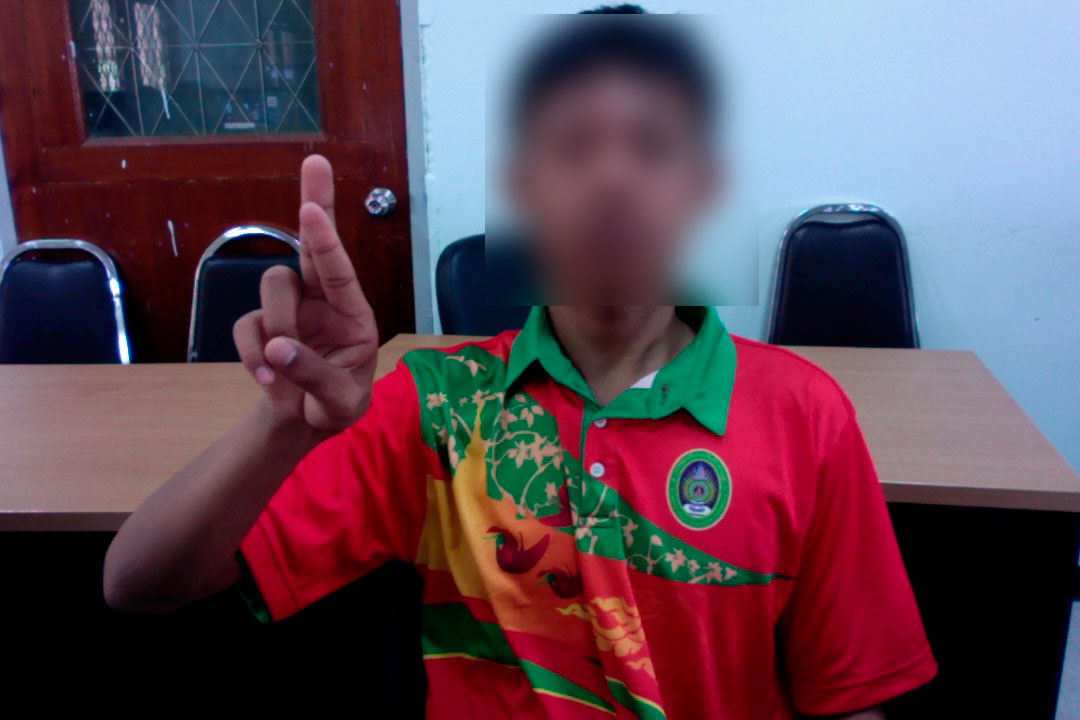rao: (222, 153, 395, 436)
